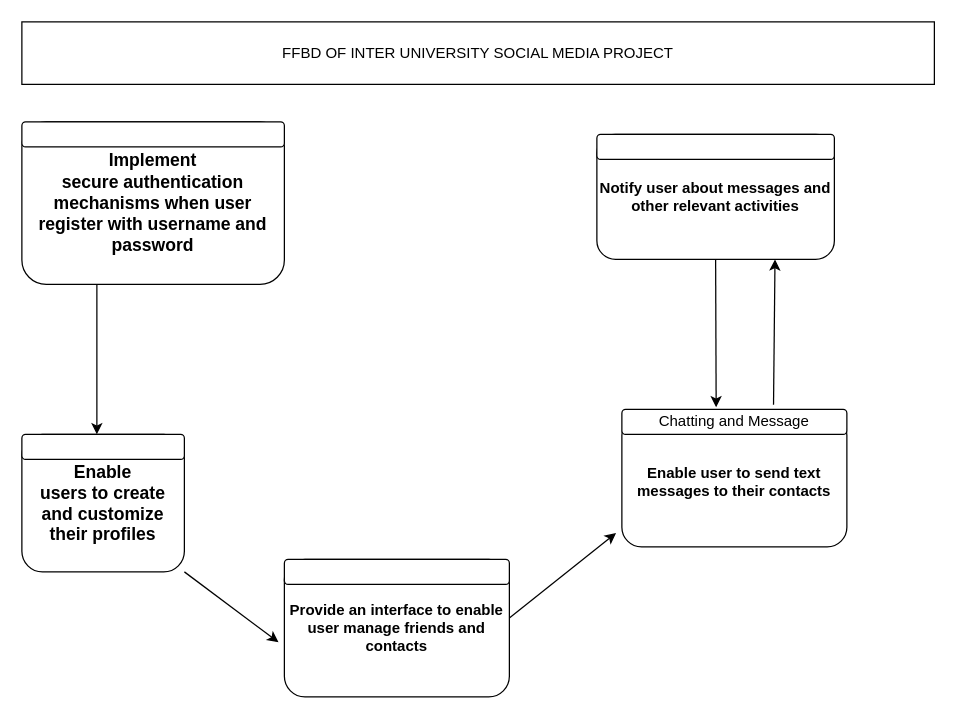
Image size: 956x719. Some labels were removed from this diagram. Here are the shapes that lost their labels. From the top down, the centre of each, then its label:
At (152,134): "User Registration and Authentication".
At (715,146): "Notification".
At (102,446): "Profile Creation".
At (396,571): "Friend/Contact Management".
